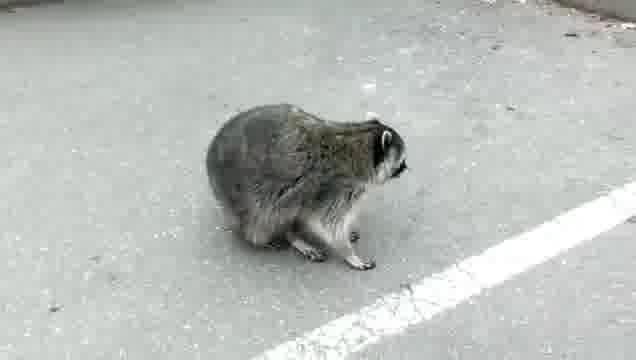raccoon: (203, 101, 415, 273)
